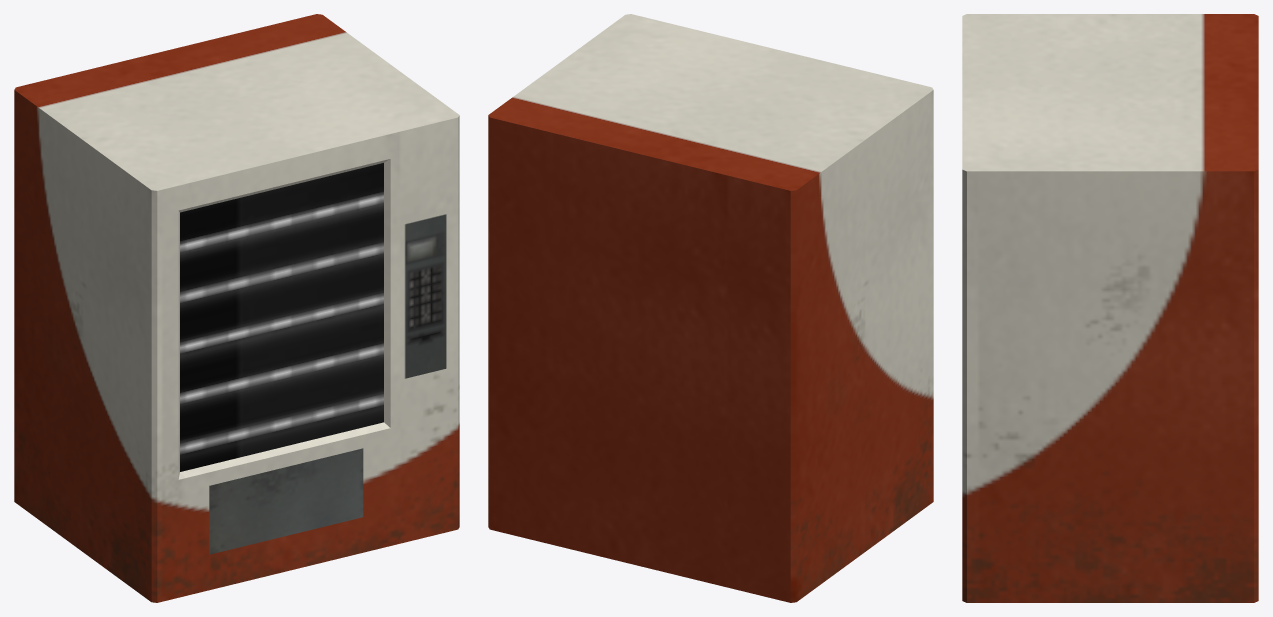
The model's file is VendingMachine.fbx.
3 renders of one model, left to right at view 1: azimuth 30°, elevation 25°; view 2: azimuth 150°, elevation 25°; view 3: azimuth 270°, elevation 25°, orthographic. The views are drawn at different scales.
Parts seen in each view (by area): view 1: Vending_Machine; view 2: Vending_Machine; view 3: Vending_Machine.
Boxes of the visible parts, left/top/right/bottom form: Vending_Machine: left=14, top=14, right=459, bottom=602; Vending_Machine: left=488, top=14, right=933, bottom=602; Vending_Machine: left=962, top=14, right=1258, bottom=602.
Bounding box in the file's own units: 137 × 175 × 109.
